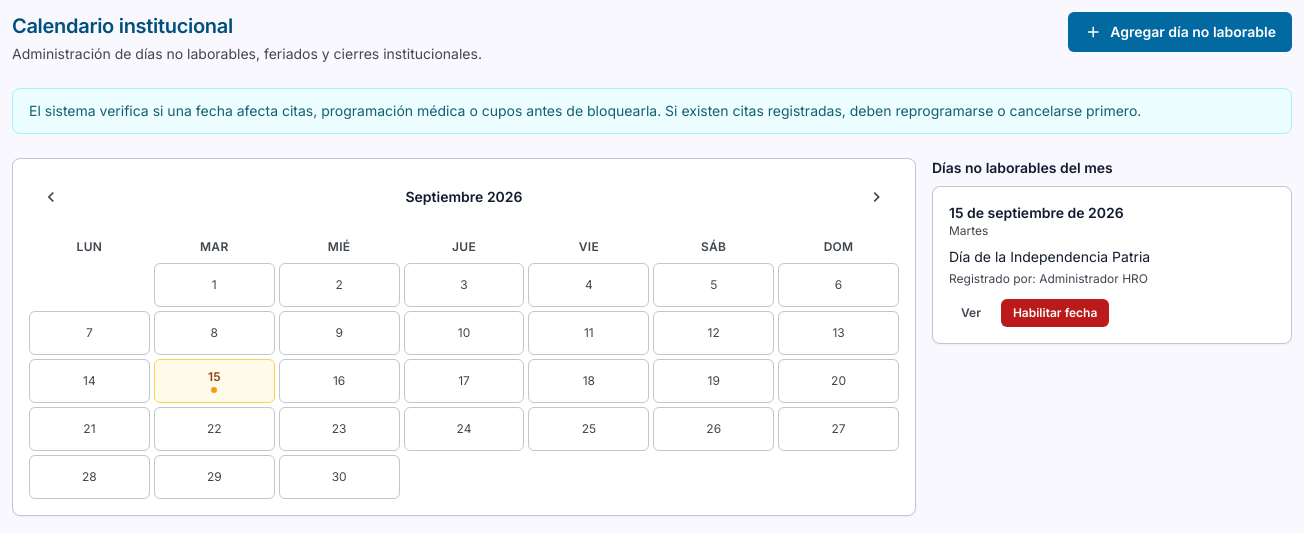
Test case: CalendarioPage › navega al mes siguiente y recarga el rango
The image size is (1304, 533).
Click the button named "Mes siguiente": (877, 197) [855,175,899,219]
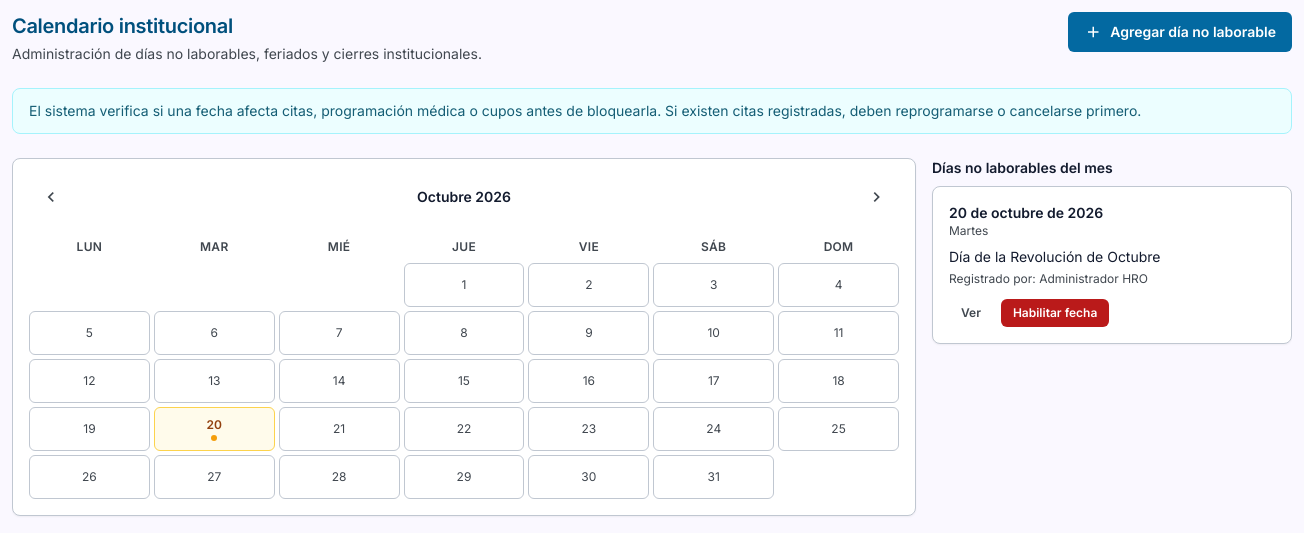
Result: the text "Octubre 2026" is shown at [417,187,511,207]
Result: the text "Día de la Revolución de Octubre" is shown at [949,248,1160,265]
